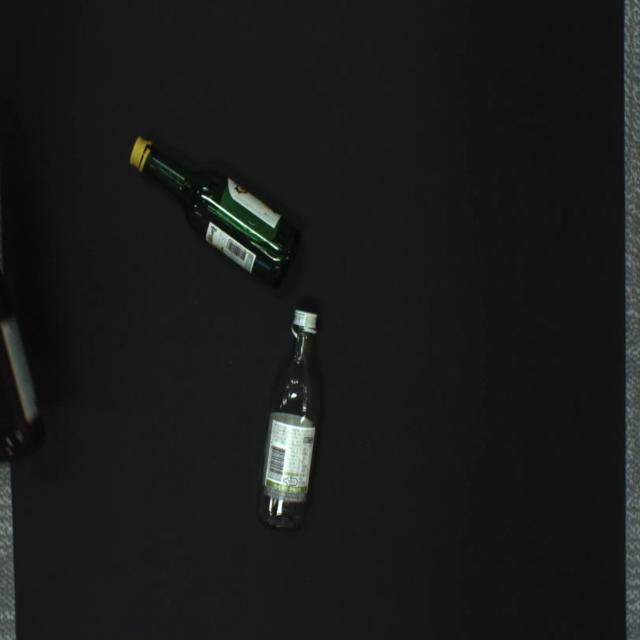soju-bottle: (128, 133, 301, 289), (256, 308, 321, 532)
